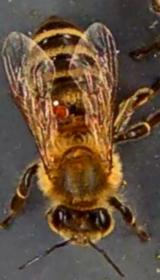varroa_mite: (41, 96, 76, 121)
